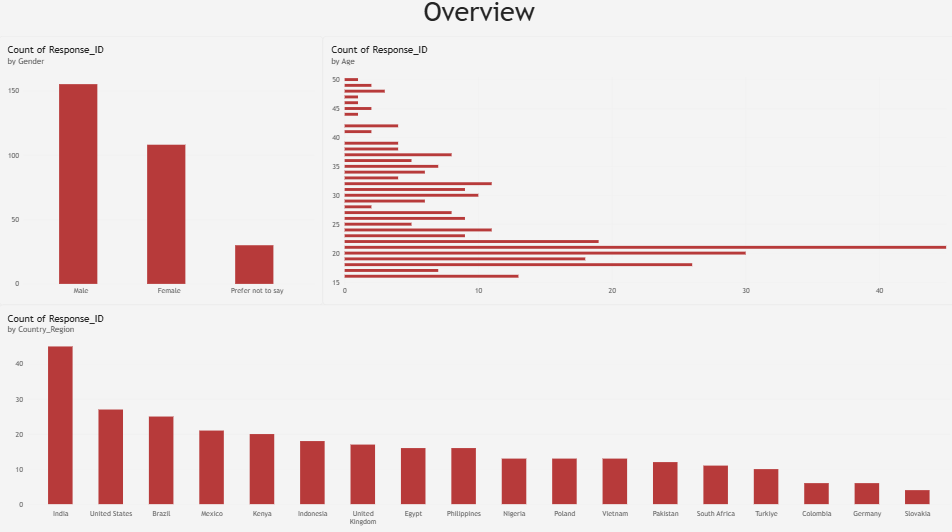

The page's visual inventory and layout, read from the dashboard file:
{"tool":"powerbi","page":{"name":"Overview","canvas":[1920,1080],"ordinal":1},"visuals":[{"type":"clusteredColumnChart","fields":{"Category":["consumer_shopping_behavior_survey.Gender"],"Y":["CountNonNull(consumer_shopping_behavior_survey.Response_ID)"]},"box":[0,80,648,538],"z":0},{"type":"clusteredBarChart","fields":{"Category":["consumer_shopping_behavior_survey.Age"],"Y":["CountNonNull(consumer_shopping_behavior_survey.Response_ID)"]},"box":[648,80,1272,538],"z":1000},{"type":"clusteredColumnChart","fields":{"Category":["consumer_shopping_behavior_survey.Country_Region"],"Y":["CountNonNull(consumer_shopping_behavior_survey.Response_ID)"]},"box":[0,618,1920,462],"z":2000},{"type":"textbox","box":[100,100,1008,88],"z":2001},{"type":"textbox","box":[0,0,1920,80],"z":2002}]}

Visuals, with their boxes in screenshot pixels (x1, y1, x2, y2), scaled from the page's 1920x1080 canvas onto the 952x532 screenshot:
clusteredColumnChart - consumer_shopping_behavior_survey.Gender x CountNonNull(consumer_shopping_behavior_survey.Response_ID): <bbox>0, 39, 321, 304</bbox>
clusteredBarChart - consumer_shopping_behavior_survey.Age x CountNonNull(consumer_shopping_behavior_survey.Response_ID): <bbox>321, 39, 951, 304</bbox>
clusteredColumnChart - consumer_shopping_behavior_survey.Country_Region x CountNonNull(consumer_shopping_behavior_survey.Response_ID): <bbox>0, 304, 951, 531</bbox>
textbox: <bbox>50, 49, 549, 93</bbox>
textbox: <bbox>0, 0, 951, 39</bbox>
